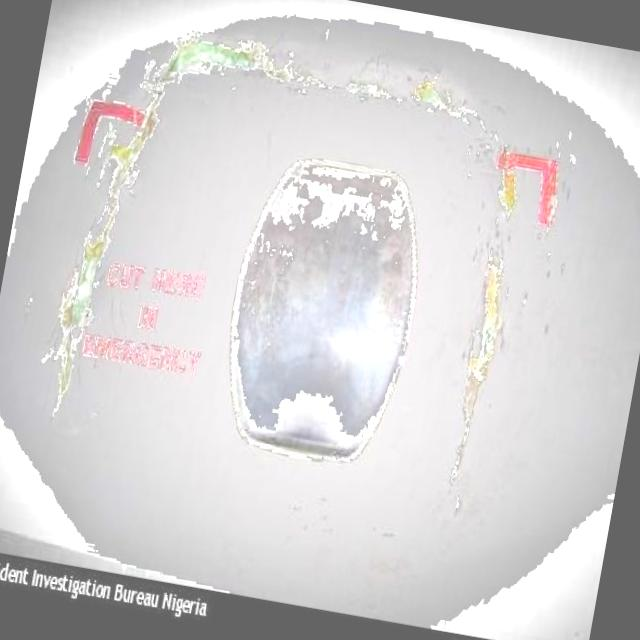crack: (32, 51, 175, 426), (162, 30, 493, 132), (442, 245, 518, 494), (490, 164, 522, 227)
